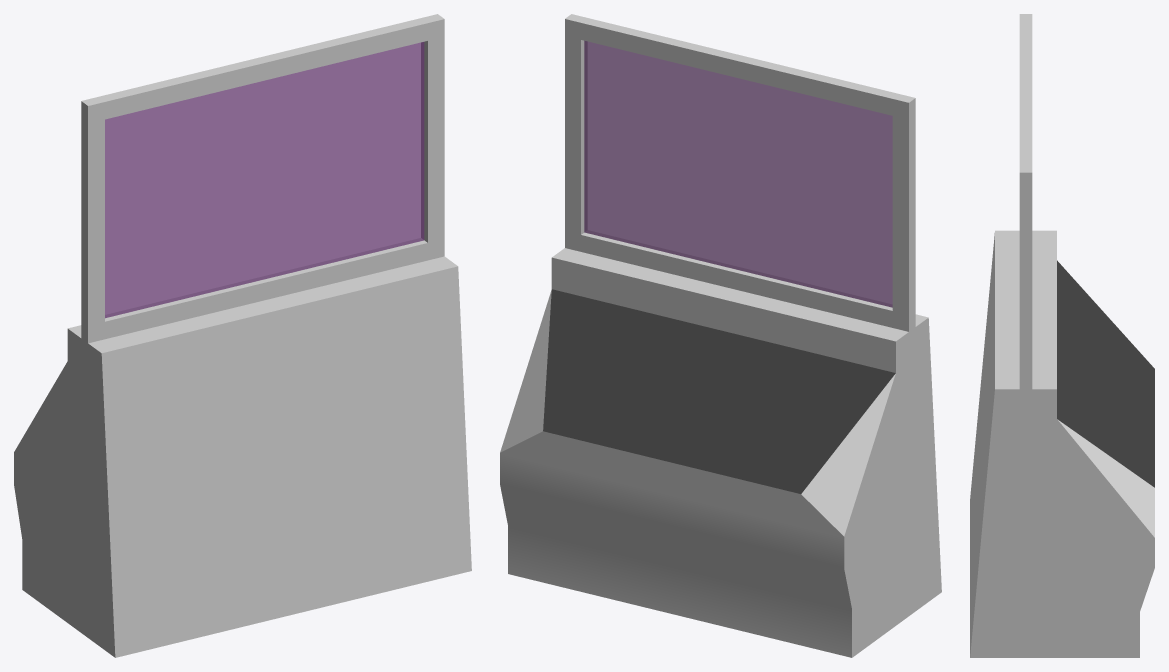
Rendered from consoleScreen.fbx.
3 renders of one model, left to right at view 1: azimuth 30°, elevation 25°; view 2: azimuth 150°, elevation 25°; view 3: azimuth 270°, elevation 25°, orthographic. The views are drawn at different scales.
Parts seen in each view (by area): view 1: consoleScreen; view 2: consoleScreen; view 3: consoleScreen.
Boxes of the visible parts, box(x1,y1,x2,y2) form: consoleScreen: box(14, 14, 471, 657); consoleScreen: box(500, 14, 941, 657); consoleScreen: box(970, 14, 1154, 657).
Size of the model in its own units: 4.56 by 6.5 by 2.24.
